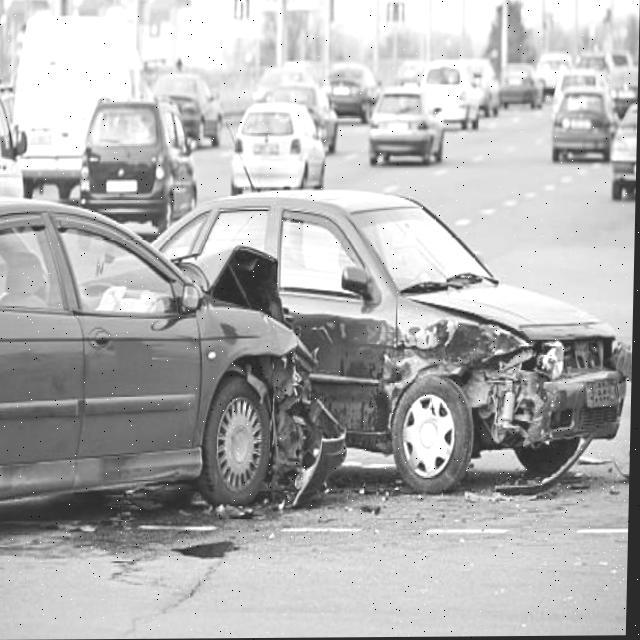multiple_accident: (64, 196, 614, 604)
normal: (23, 21, 640, 187)
